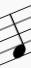F: (7, 11, 27, 60)
